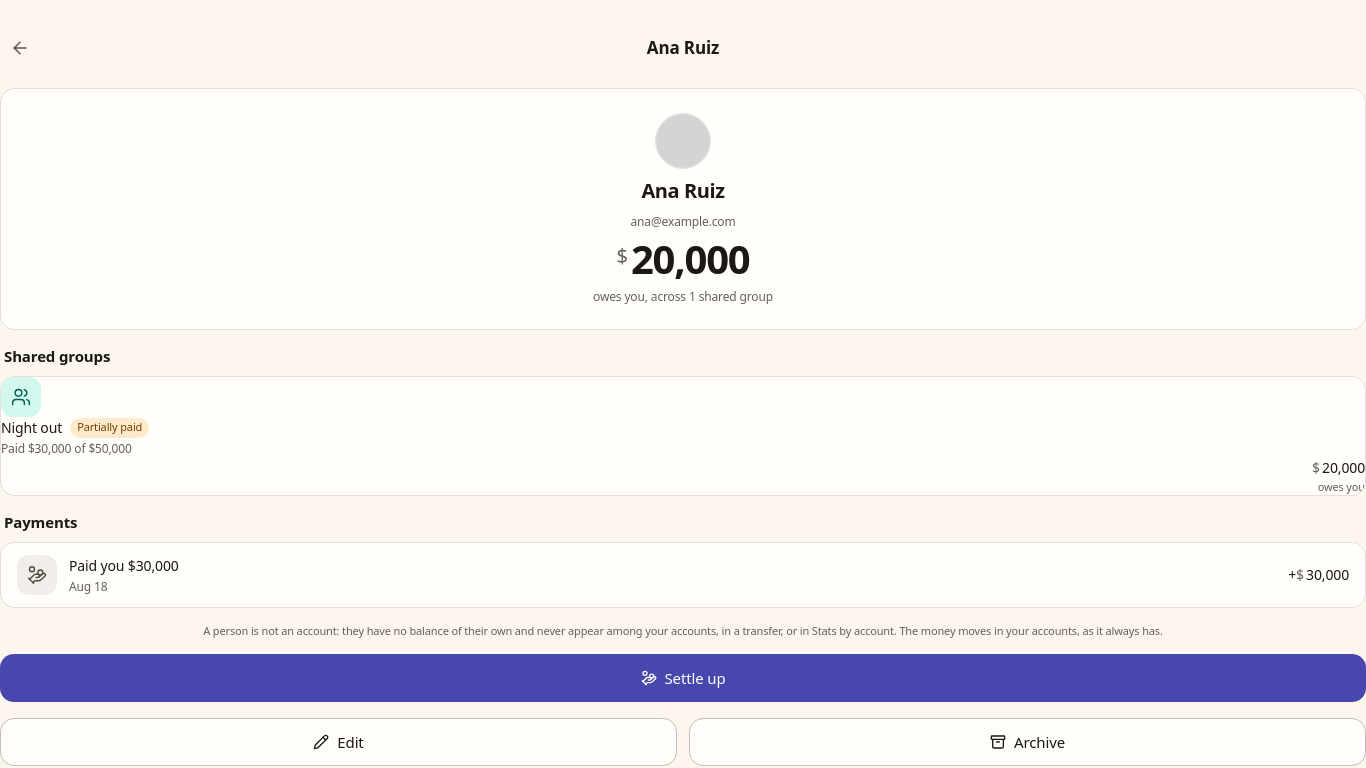
Scenario: PersonScreen › names the net on the row and both halves in the sheet when it went both ways
Click the button "Paid you $30,000 Aug 18 +$30,000" at coordinates (37, 575), box [1,543,1365,607]
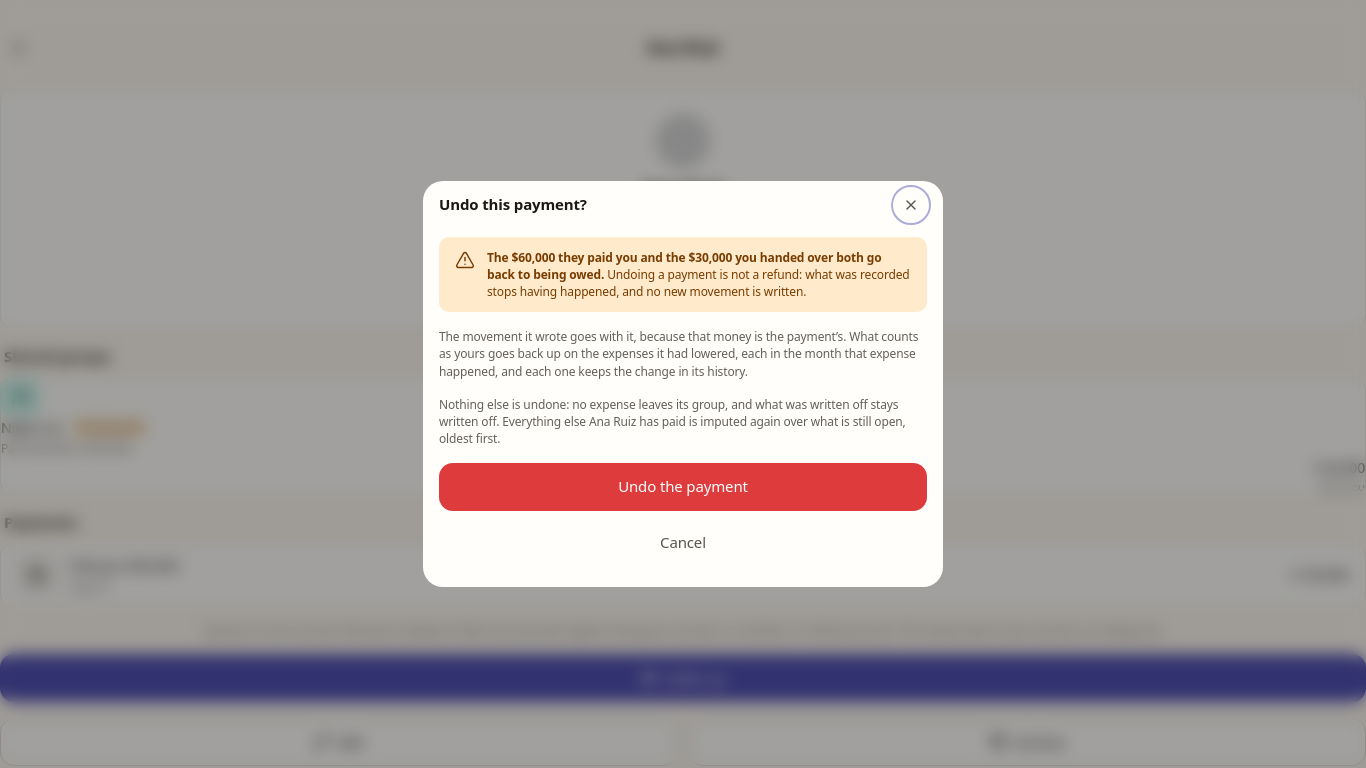
Expected: the dialog "Undo this payment?" does not show "Undo the $60,000", [423,181,943,587]
Expected: the dialog "Undo this payment?" shows "The $60,000 they paid you and the $30,000 you handed over both go back to being owed", [487,249,882,283]
